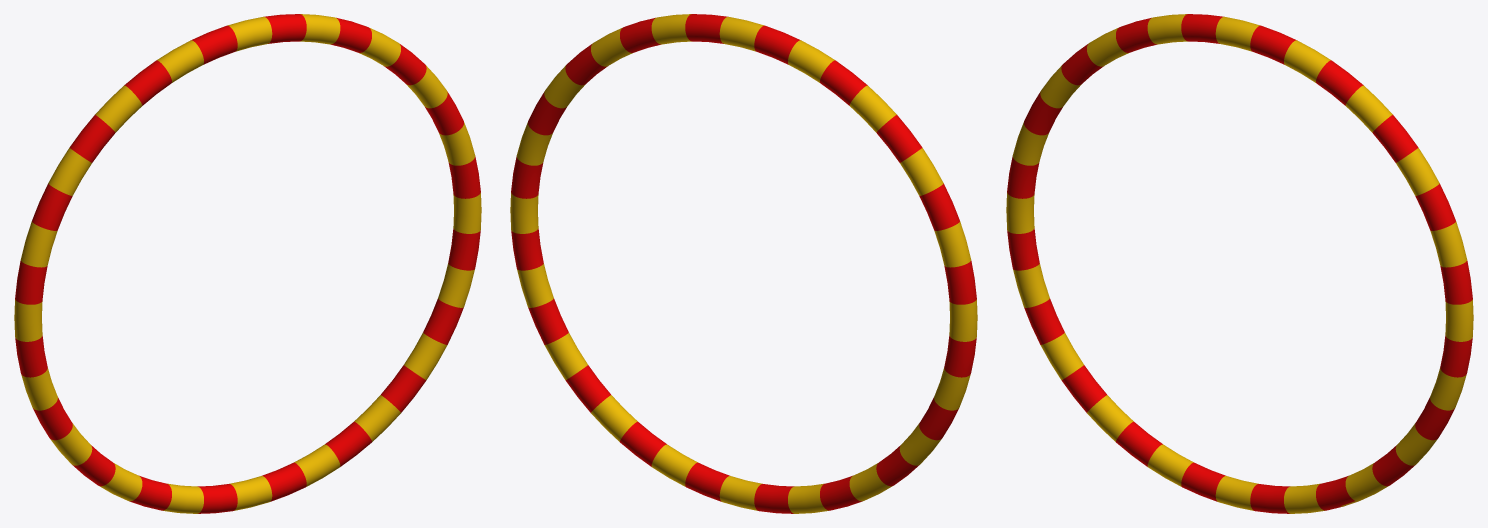
The model's file is Ring.fbx.
3 views of the same model, side by side, from view 1: azimuth 30°, elevation 25°; view 2: azimuth 150°, elevation 25°; view 3: azimuth 330°, elevation 25° (orthographic).
Visible parts, largest first — view 1: pTorus6; view 2: pTorus6; view 3: pTorus6.
Boxes of the visible parts, x1,y1,x2,y2 form: pTorus6: (14, 14, 481, 513); pTorus6: (510, 14, 977, 513); pTorus6: (1006, 14, 1473, 513).
Bounding box in the file's own units: 5.89 × 5.89 × 0.3044.
